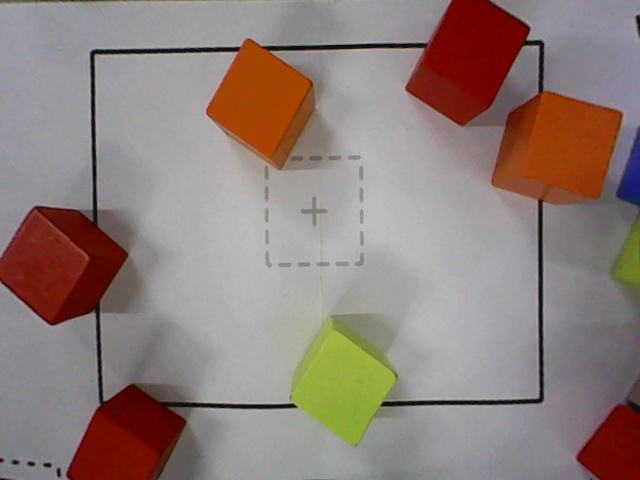upside of small cube: (288, 328, 398, 449), (205, 38, 313, 159), (419, 0, 532, 109), (521, 90, 623, 199), (0, 207, 90, 326), (65, 407, 162, 479)
